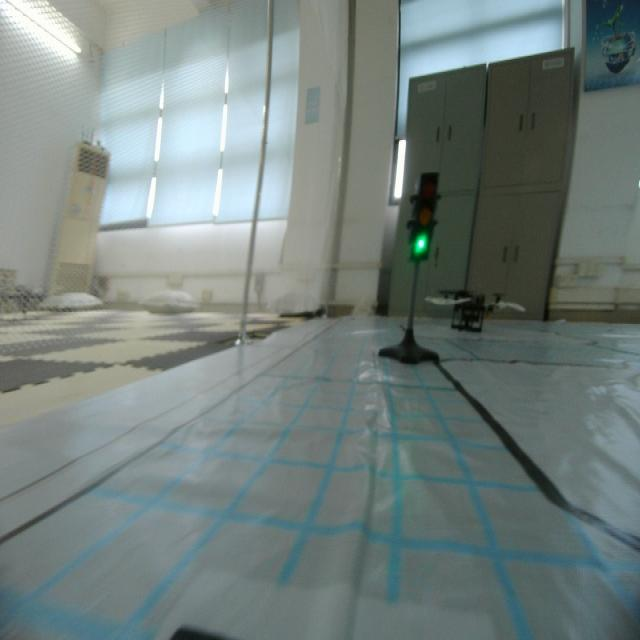green: (401, 156, 441, 270)
